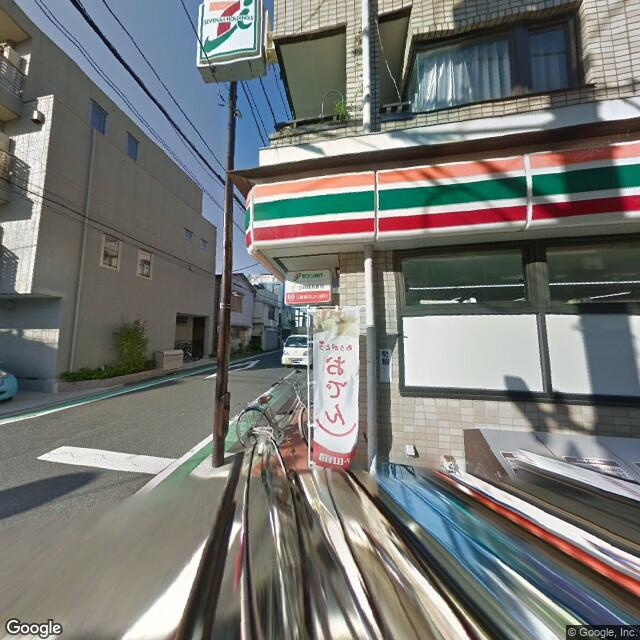7-eleven: (243, 137, 639, 265), (192, 1, 259, 71)
